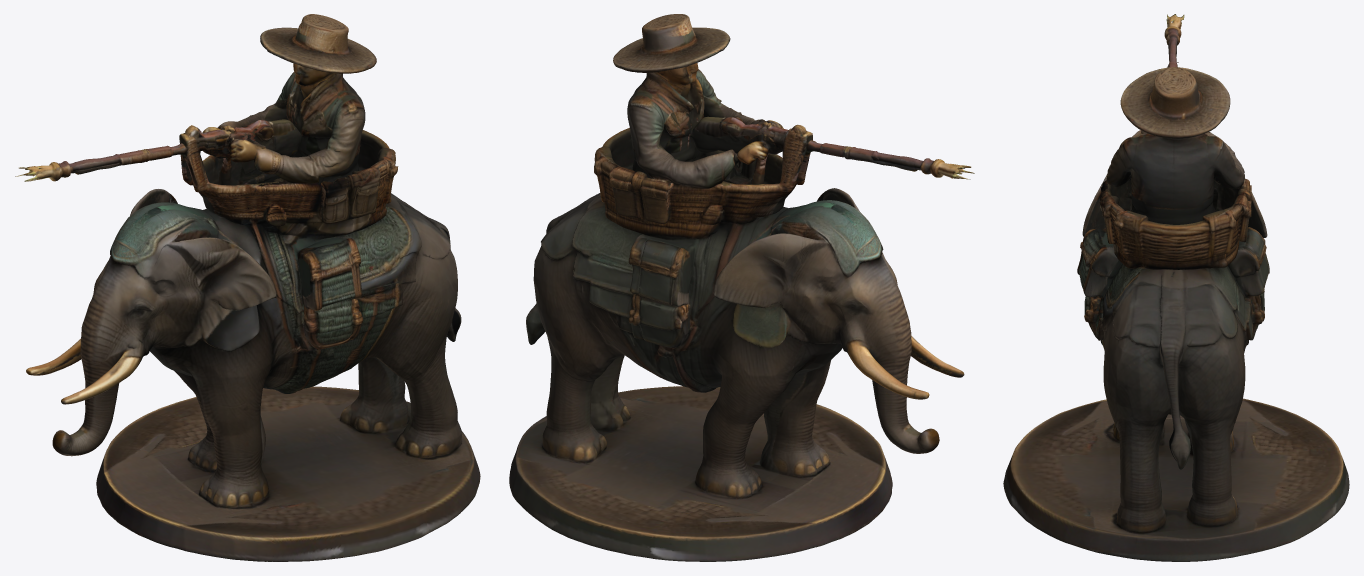
File: Elephant_Sentinel.glb
3 renders of one model, left to right at view 1: azimuth 30°, elevation 25°; view 2: azimuth 150°, elevation 25°; view 3: azimuth 270°, elevation 25°, orthographic. The views are drawn at different scales.
Size of the model in its own units: 1.87 by 1.85 by 1.36.
Materials: 1 (1 with a texture image).
